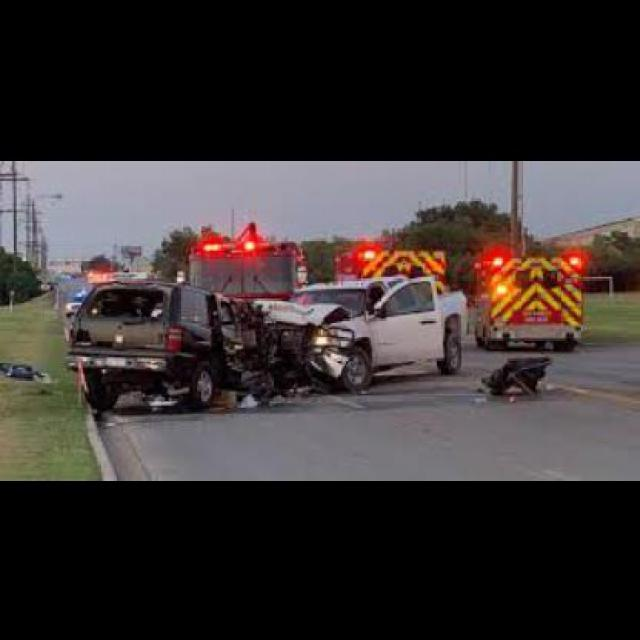accident: (71, 271, 474, 409)
